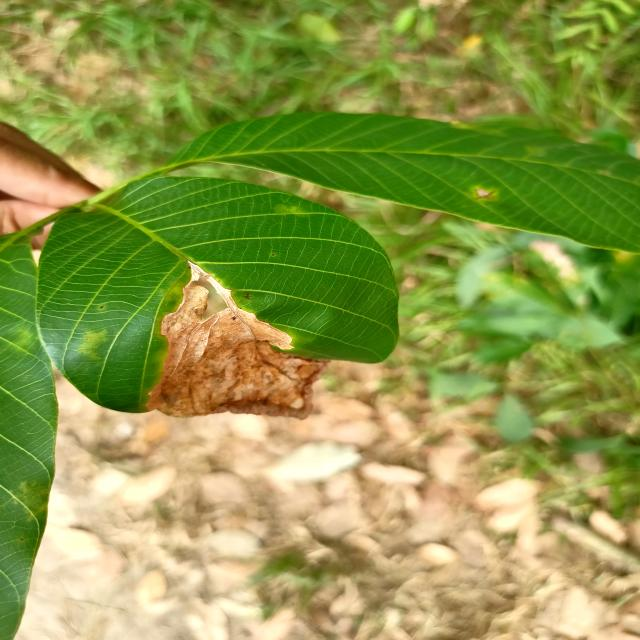Colletotrichum: (272, 254, 275, 256)
Corynespora: (242, 291, 252, 301)
Leaf-Blight: (145, 261, 330, 420)
